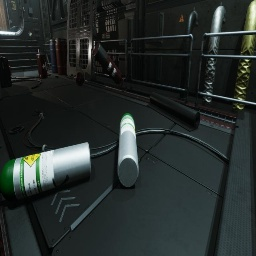0: (0, 142, 91, 202), (117, 113, 139, 187)
EmergencyPhone ,: (11, 0, 16, 10)
FireExtinguisher ]: (38, 49, 48, 71)
FirstAidBox ,: (36, 54, 48, 79), (9, 66, 12, 75)
NitrogenTank ,: (94, 42, 124, 87), (75, 68, 84, 86)
